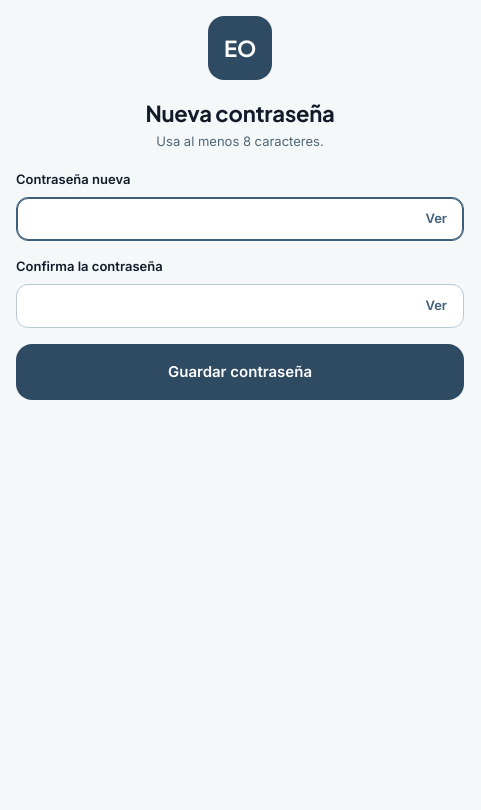
Test case: restablecer contraseña (HU07-E3) › si el enlace venció, lo dice y ofrece pedir otro
Type "nueva-clave-1" into the password field labelled "Contraseña nueva" at x=213, y=219, box [17,198,409,240]
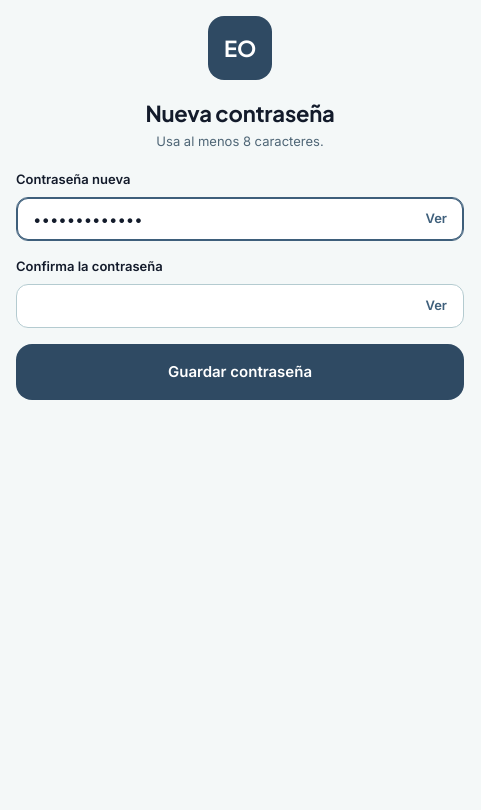
Type "nueva-clave-1" into the password field labelled "Confirma la contraseña" at x=213, y=306, box [17,285,409,327]
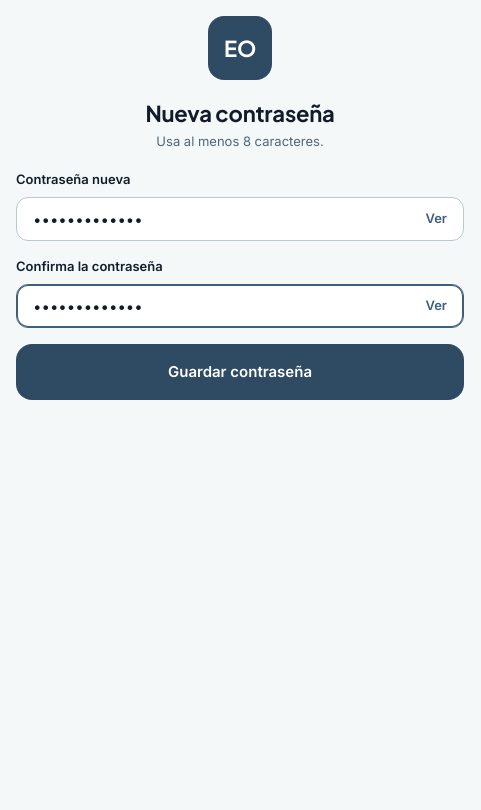
Click the button "Guardar contraseña" at x=240, y=372, box [16,344,464,400]
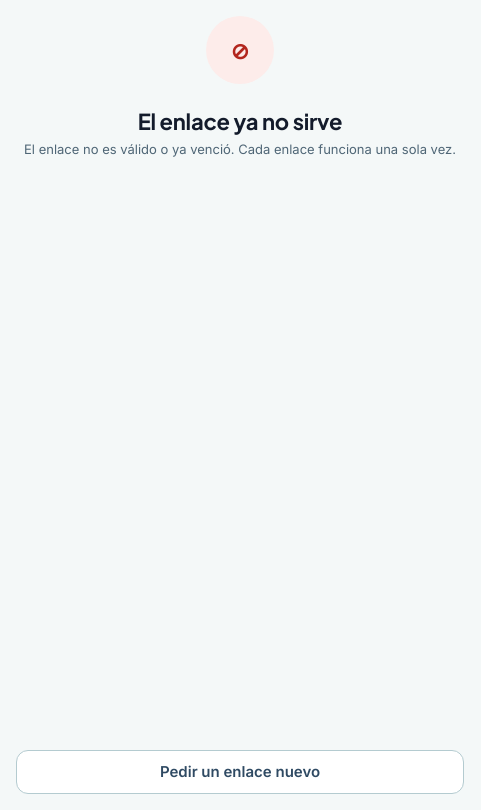
Now the heading "El enlace ya no sirve" is shown, box [138,108,342,136]
Now the link "Pedir un enlace nuevo" is shown, box [16,750,464,794]
